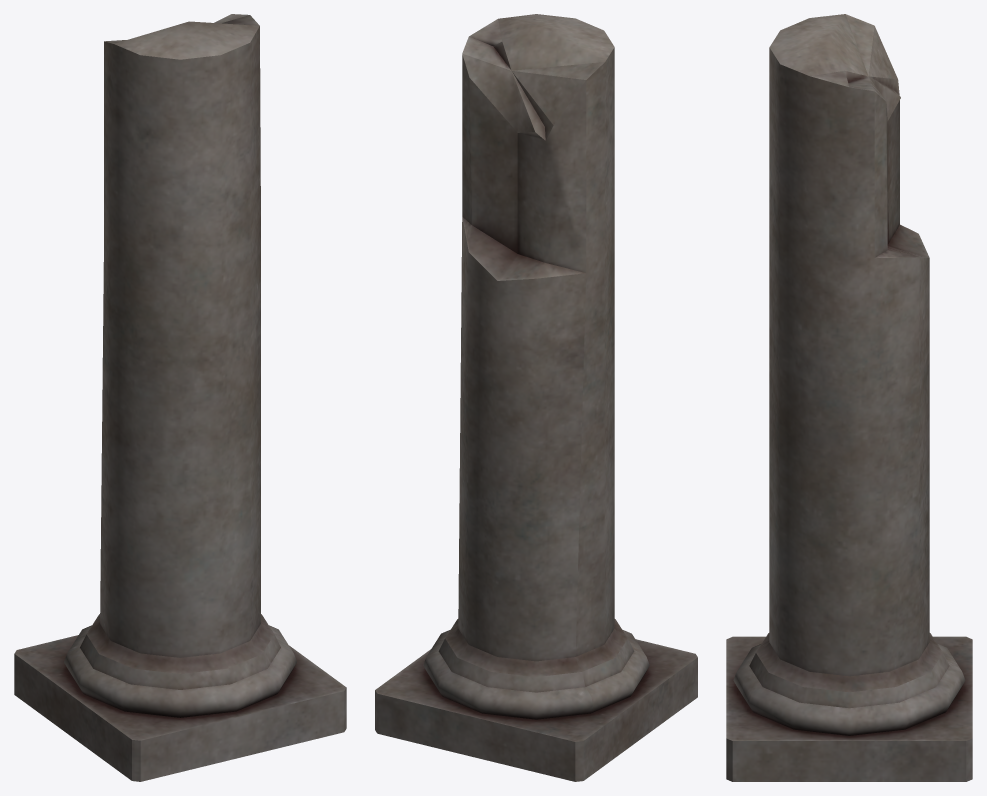
File: sb_obj_outdoor009_AncientTemple_pillar01C.fbx
3 renders of one model, left to right at view 1: azimuth 30°, elevation 25°; view 2: azimuth 150°, elevation 25°; view 3: azimuth 270°, elevation 25°, orthographic. The views are drawn at different scales.
Visible parts, largest first — view 1: sb_obj_outdoor009_AncientTemple_pillar01C; view 2: sb_obj_outdoor009_AncientTemple_pillar01C; view 3: sb_obj_outdoor009_AncientTemple_pillar01C.
Part boxes in pixels (x1,y1,x2,y2): sb_obj_outdoor009_AncientTemple_pillar01C: [14, 14, 346, 781]; sb_obj_outdoor009_AncientTemple_pillar01C: [375, 14, 697, 781]; sb_obj_outdoor009_AncientTemple_pillar01C: [726, 14, 972, 781].
Size of the model in its own units: 1.64 by 5.08 by 1.64.
